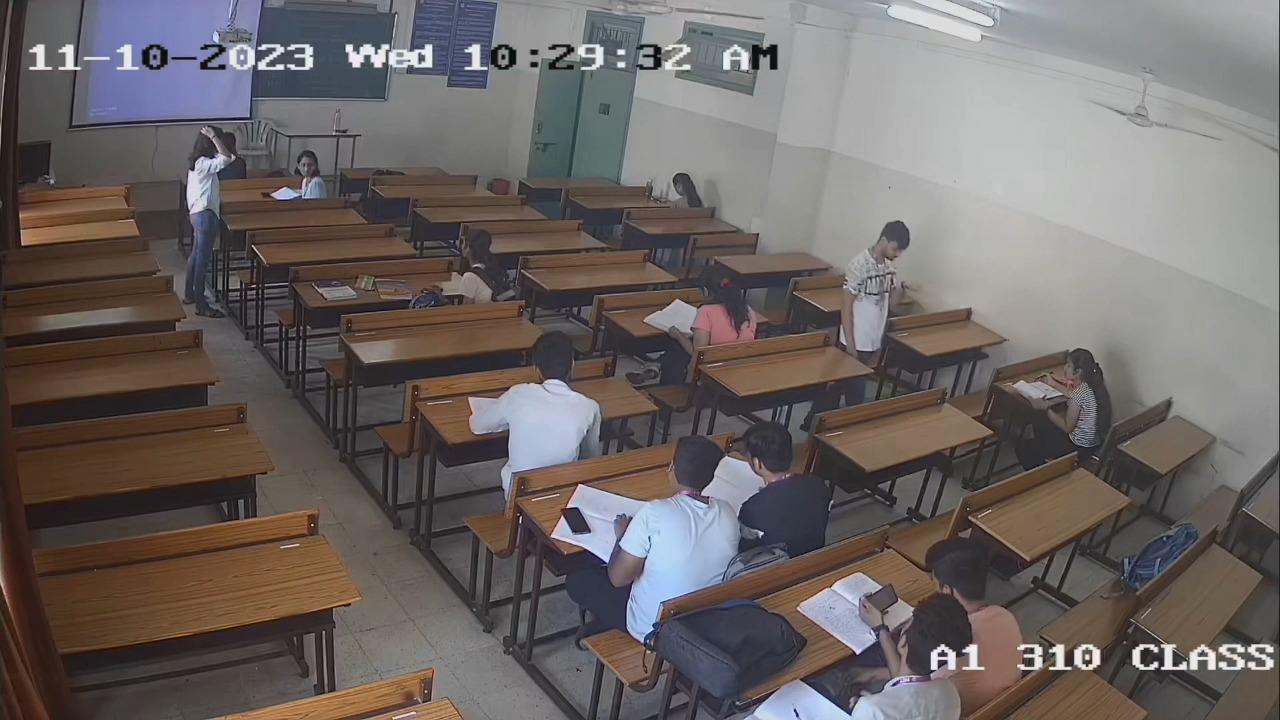cell-phones: (865, 581, 900, 616), (559, 503, 594, 537), (650, 194, 672, 205), (259, 190, 273, 199)
person: (603, 434, 740, 612), (866, 535, 1023, 690), (292, 148, 327, 200), (669, 173, 704, 208)
